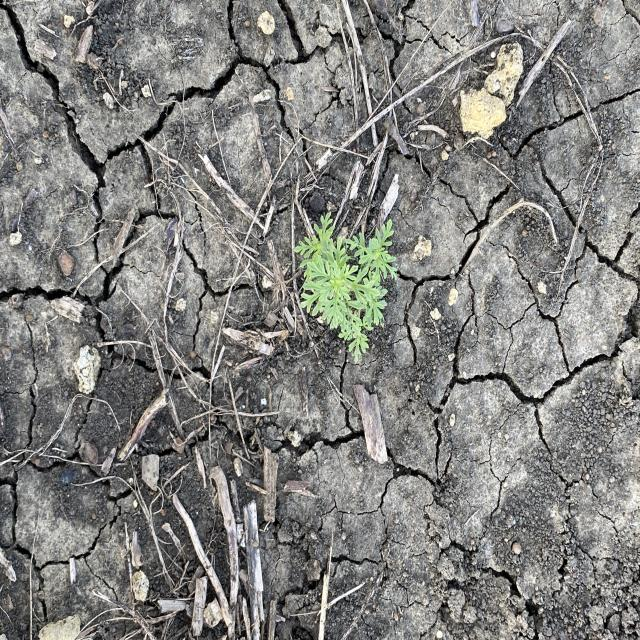Ragweed: (294, 210, 399, 366)
